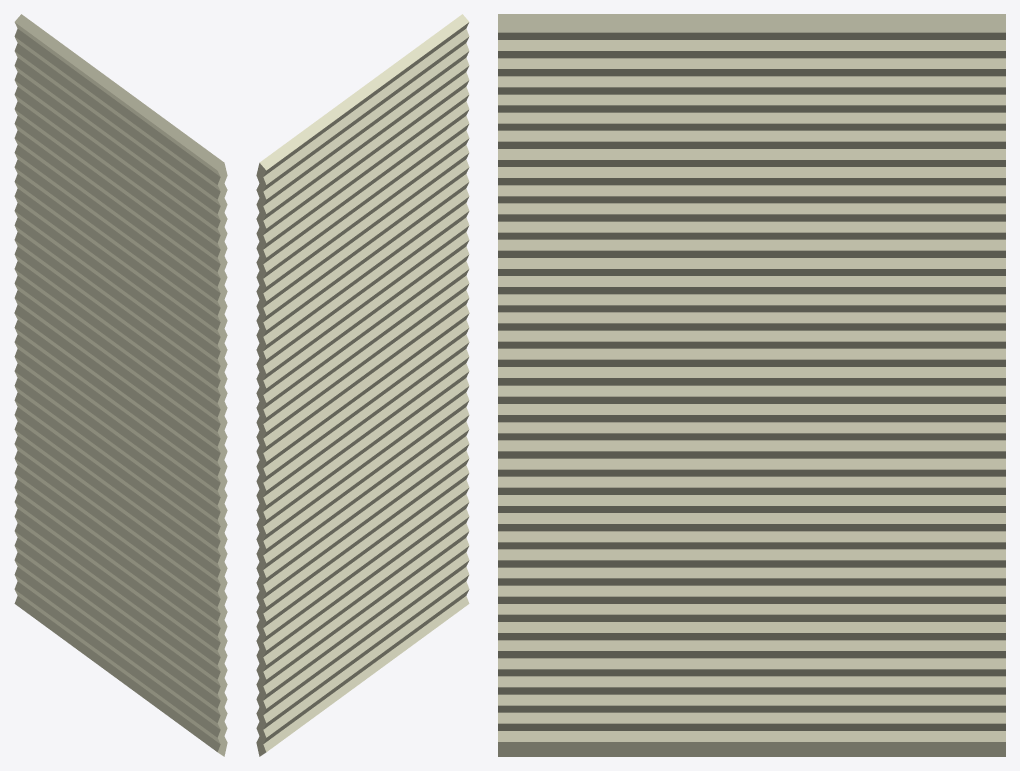
The model's file is shades.fbx.
3 renders of one model, left to right at view 1: azimuth 30°, elevation 25°; view 2: azimuth 150°, elevation 25°; view 3: azimuth 270°, elevation 25°, orthographic. The views are drawn at different scales.
Visible parts, largest first — view 1: shade2; view 2: shade2; view 3: shade2.
Part boxes in pixels (box(x1,y1,x2,y2)): shade2: box(14, 14, 227, 756); shade2: box(256, 14, 469, 756); shade2: box(498, 14, 1005, 756).
Bounding box in the file's own units: 0.1057 × 5.89 × 3.65.
